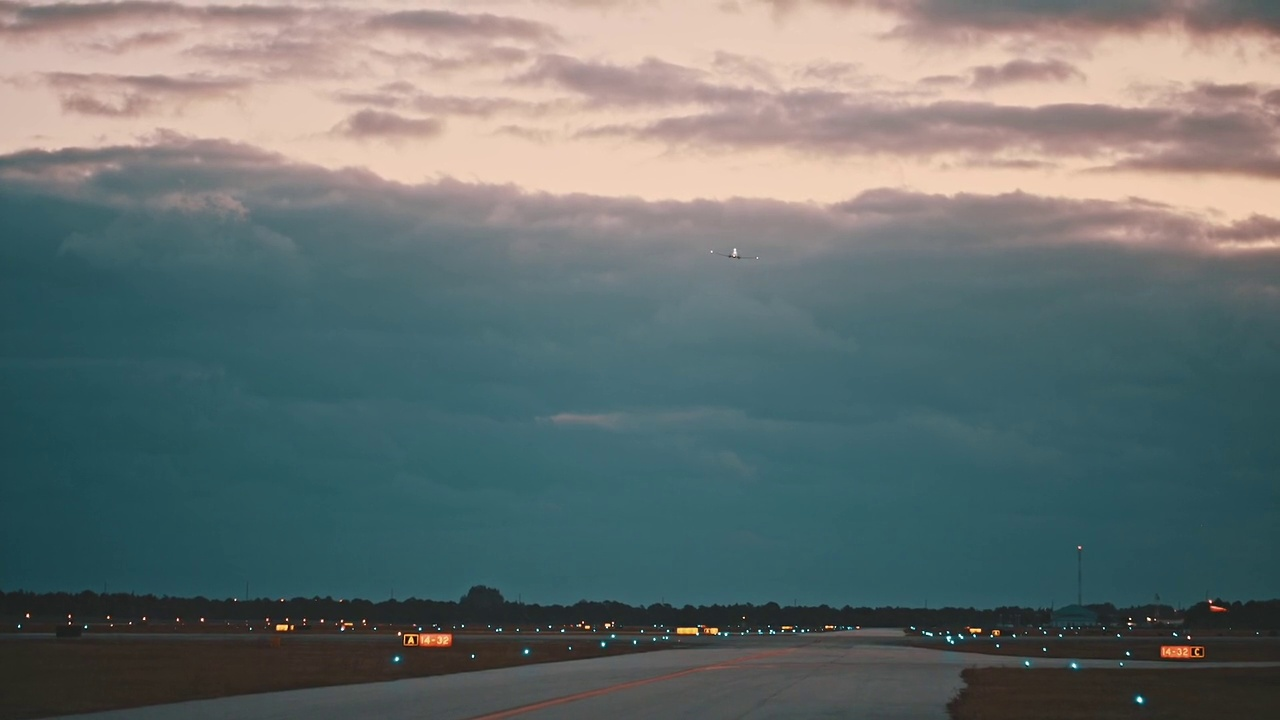plane: (709, 246, 759, 259)
